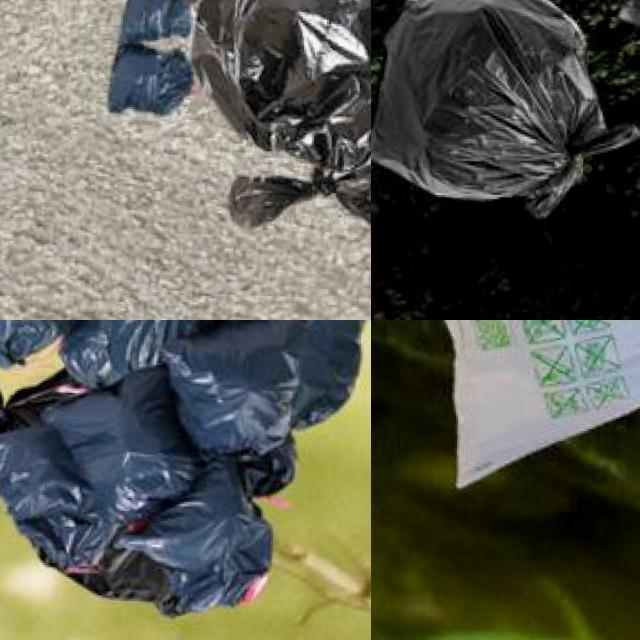waste: (371, 0, 640, 228), (386, 320, 640, 498), (175, 0, 371, 188), (32, 363, 200, 494), (153, 320, 291, 445), (154, 463, 274, 602), (0, 424, 106, 541), (107, 0, 199, 126), (83, 320, 228, 369), (106, 44, 196, 116)
